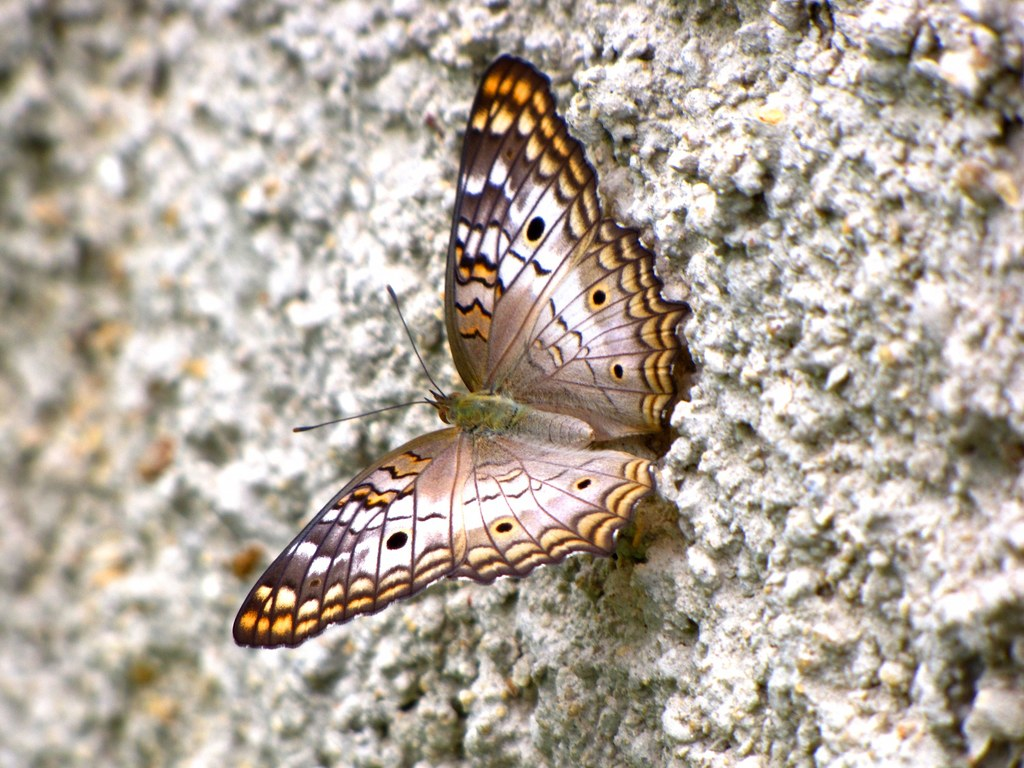Butterfly: (214, 55, 709, 659)
